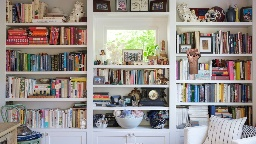Pugno: (184, 47, 202, 60)
